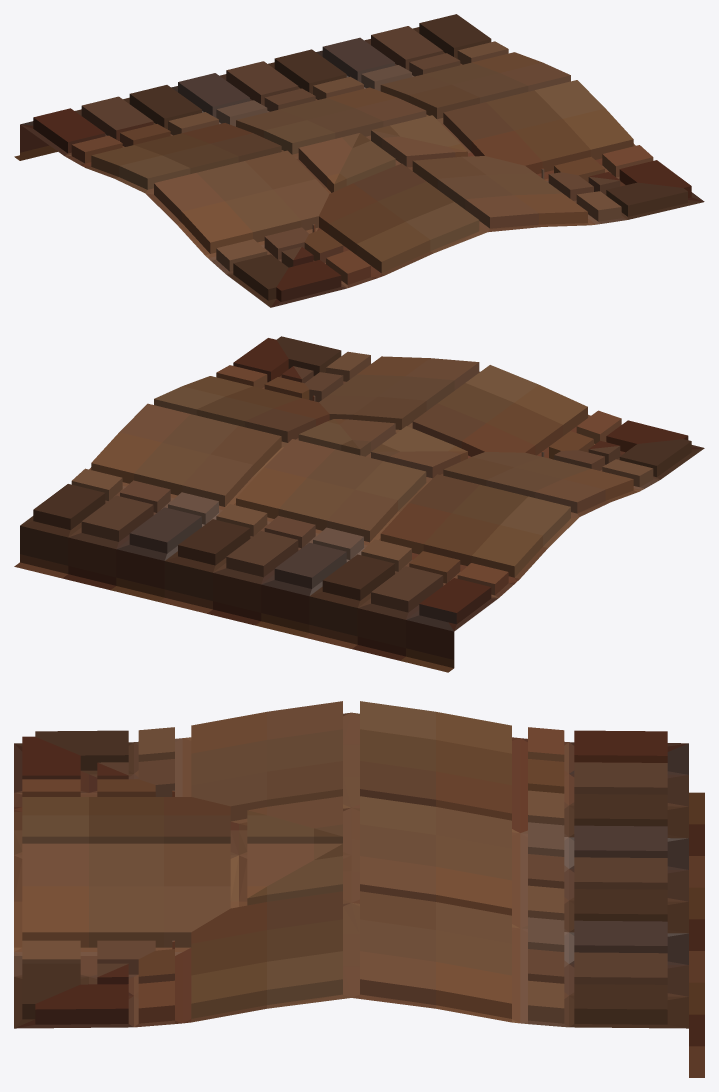
File: Ceiling_HomeA-VaultedTInt.fbx
3 renders of one model, top to bottom at view 1: azimuth 30°, elevation 25°; view 2: azimuth 150°, elevation 25°; view 3: azimuth 270°, elevation 25°, orthographic. The views are drawn at different scales.
Parts seen in each view (by area): view 1: Ceiling_HomeA-VaultedTInt; view 2: Ceiling_HomeA-VaultedTInt; view 3: Ceiling_HomeA-VaultedTInt.
Part boxes in pixels (box(x1,y1,x2,y2)): Ceiling_HomeA-VaultedTInt: box(14, 14, 704, 307); Ceiling_HomeA-VaultedTInt: box(14, 336, 704, 672); Ceiling_HomeA-VaultedTInt: box(14, 701, 704, 1077).
Bounding box in the file's own units: 600 × 93.3 × 614.
